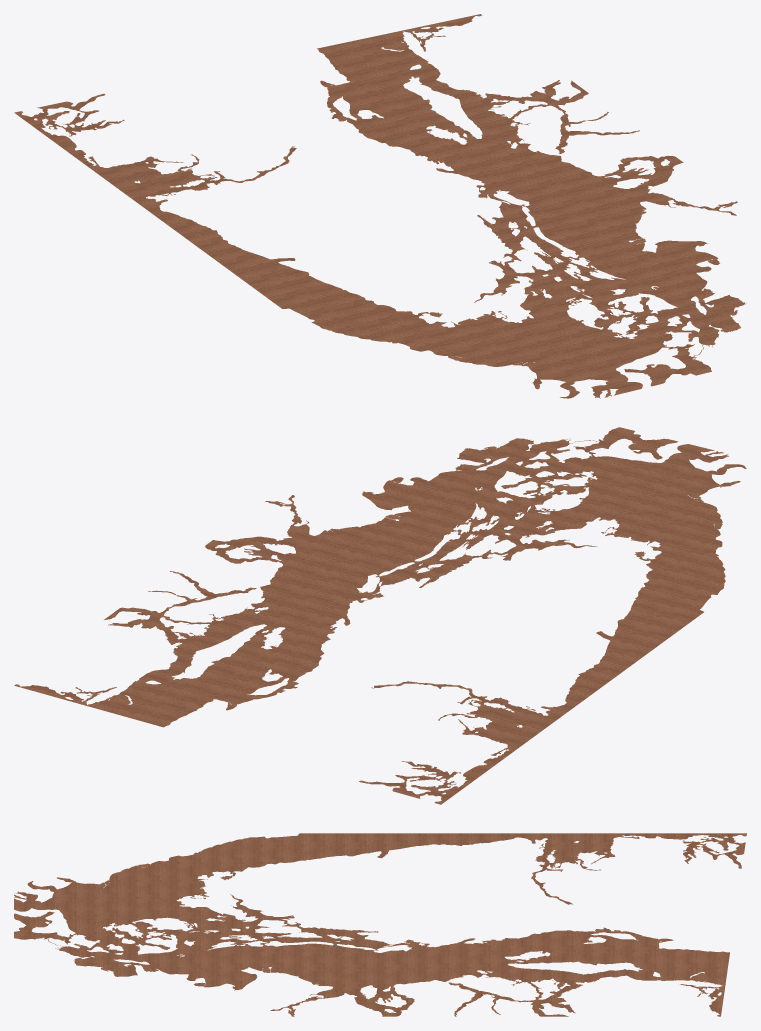
File: OUTFITTING_INTERIOR__galley, workbench, shelving, etc.__CTR BEAM TABLE__inlay map__water.glb
3 renders of one model, top to bottom at view 1: azimuth 30°, elevation 25°; view 2: azimuth 150°, elevation 25°; view 3: azimuth 270°, elevation 25°, orthographic. The views are drawn at different scales.
Parts seen in each view (by area): view 1: water; view 2: water; view 3: water.
Part boxes in pixels (<box>): water: <box>14,14,746,398</box>; water: <box>14,427,746,804</box>; water: <box>14,833,746,1016</box>.
Bounding box in the file's own units: 1.05 × 0 × 1.77.
Materials: 1 (1 with a texture image).
